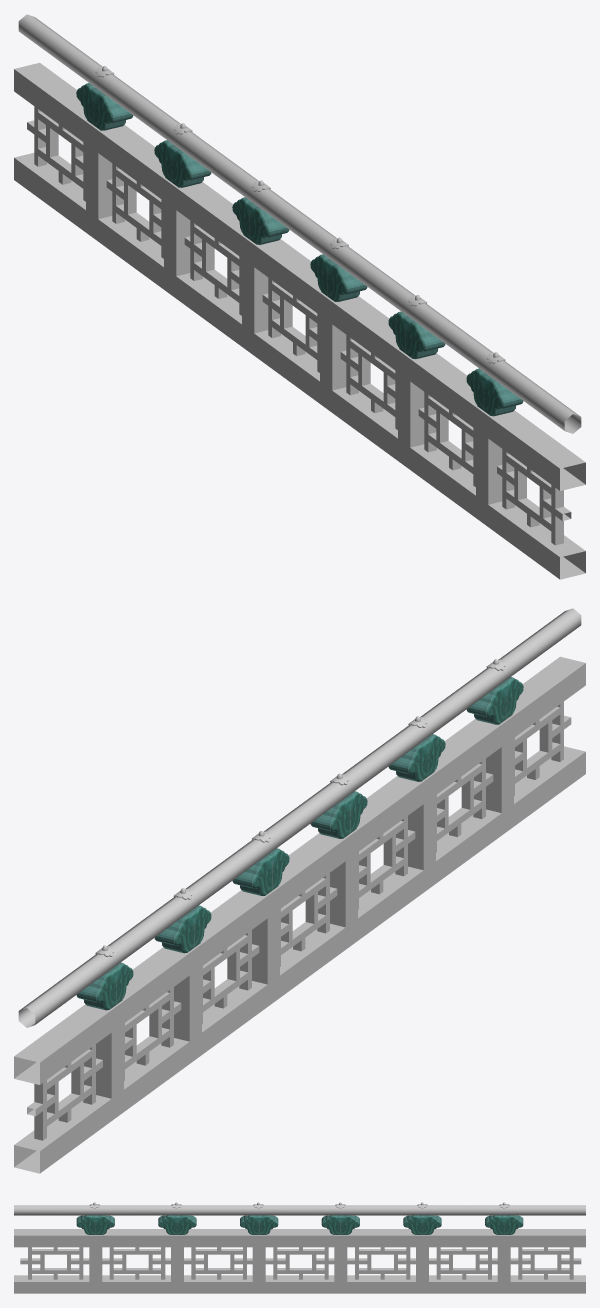
The model's file is SM_Handrail01G.fbx.
3 views of the same model, one above another, from view 1: azimuth 30°, elevation 25°; view 2: azimuth 150°, elevation 25°; view 3: azimuth 270°, elevation 25° (orthographic). The views are drawn at different scales.
Parts seen in each view (by area): view 1: SM_Handrail01G; view 2: SM_Handrail01G; view 3: SM_Handrail01G.
Part boxes in pixels (bbox=[...]): SM_Handrail01G: bbox=[14, 14, 585, 579]; SM_Handrail01G: bbox=[14, 608, 585, 1173]; SM_Handrail01G: bbox=[14, 1202, 585, 1293].
Bounding box in the file's own units: 6.27 × 230 × 38.87.
